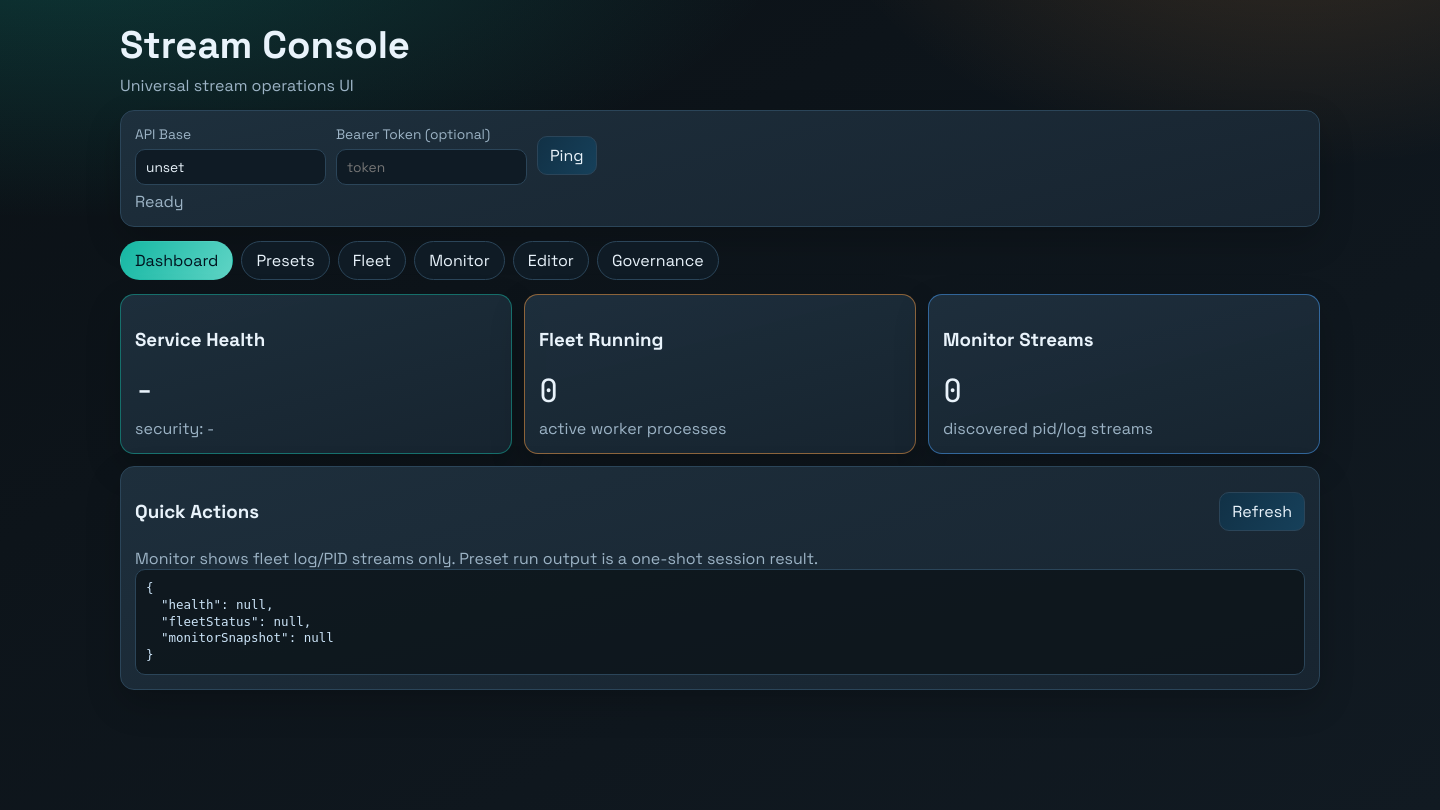
Test: Stream Console App › runs dashboard refresh
The image size is (1440, 810).
What coordinates should you click on to do the following:
click the button "Ping"
I would click on:
 (567, 155)
Its box is [537, 136, 597, 174].
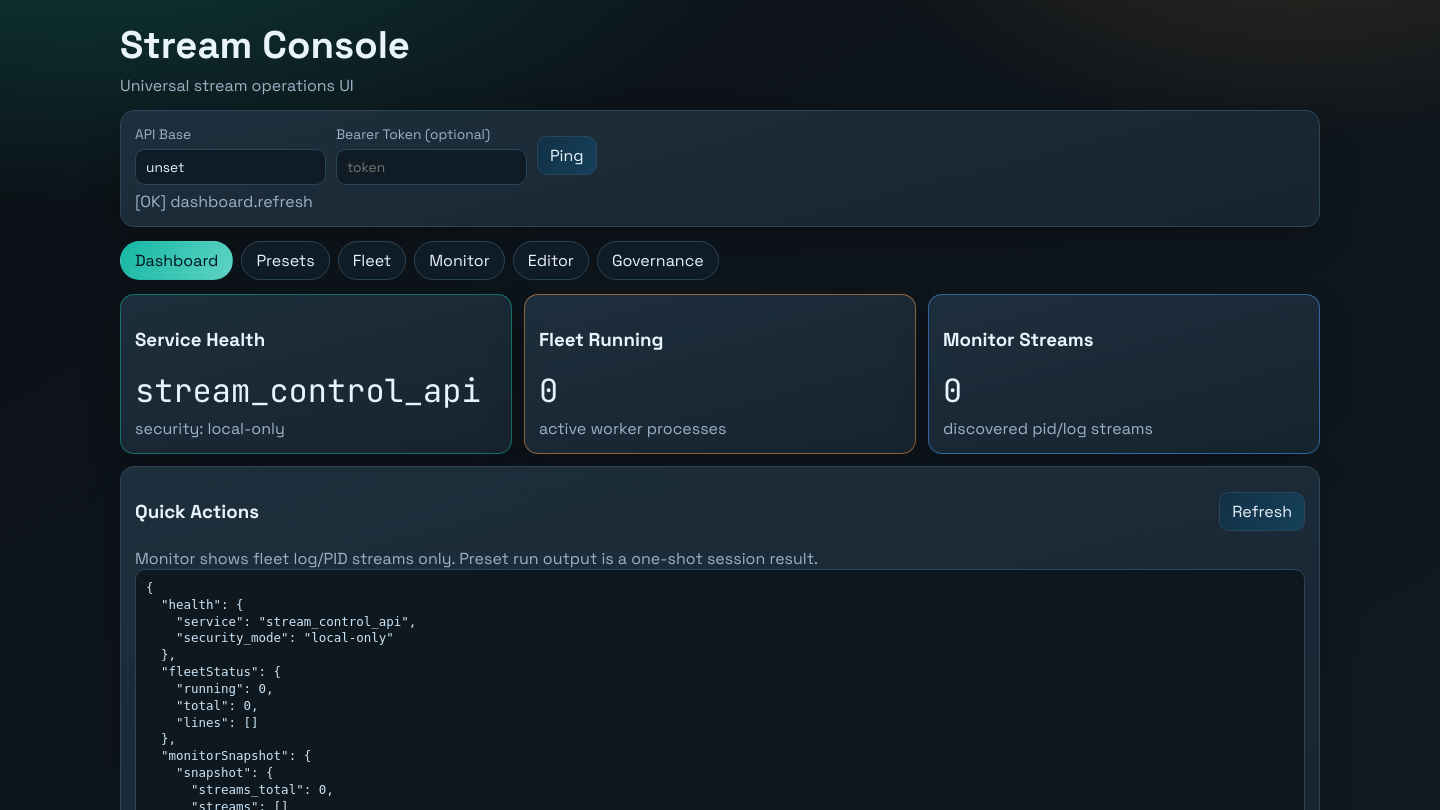
Check: the text "[OK] dashboard.refresh" is shown, box [135, 191, 313, 212]
